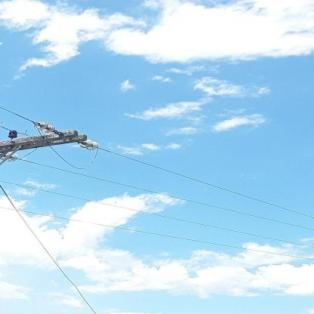Poste: (0, 136, 13, 314)
